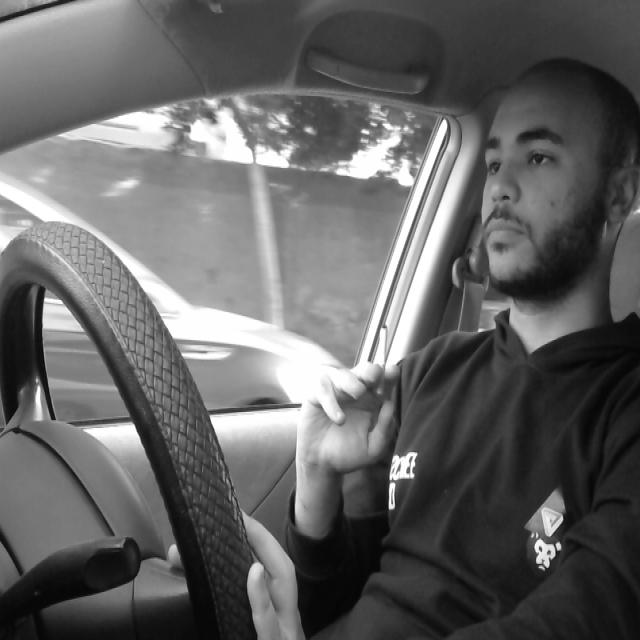smoking: (372, 321, 394, 403)
